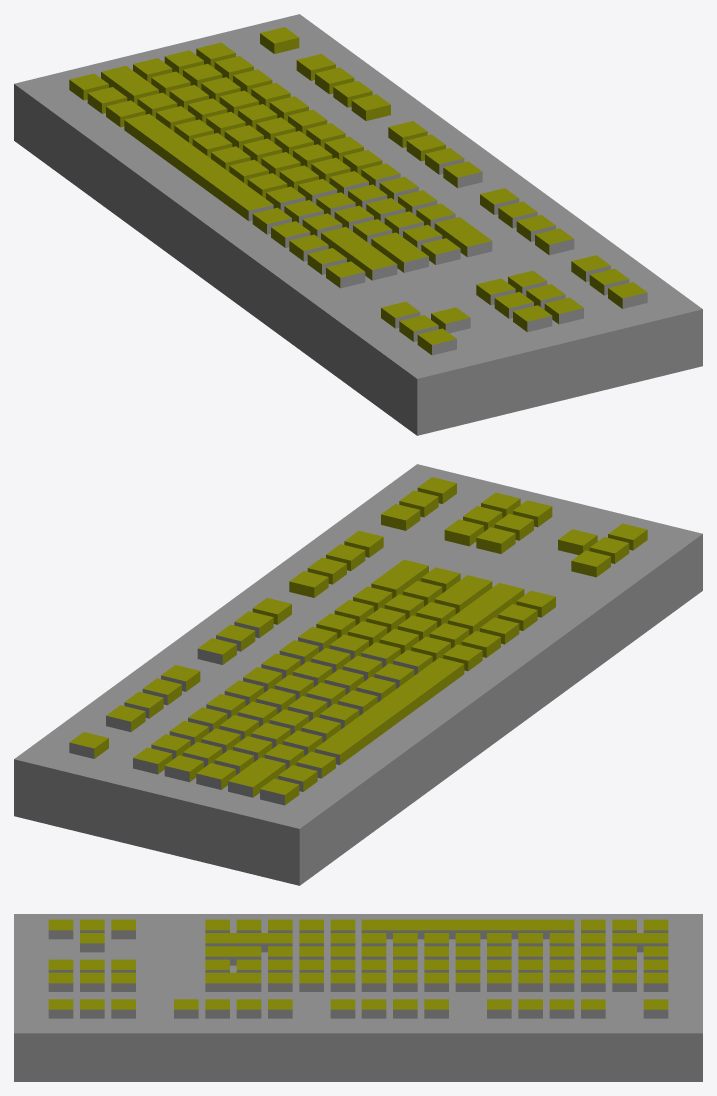
File: keyboard.FBX
3 renders of one model, top to bottom at view 1: azimuth 30°, elevation 25°; view 2: azimuth 150°, elevation 25°; view 3: azimuth 270°, elevation 25°, orthographic. The views are drawn at different scales.
Visible parts, largest first — view 1: Box001; view 2: Box001; view 3: Box001.
Boxes of the visible parts, x1,y1,x2,y2 form: Box001: (14, 14, 702, 435); Box001: (14, 464, 702, 885); Box001: (14, 914, 702, 1081).
Bounding box in the file's own units: 52.5 × 11.84 × 128.
